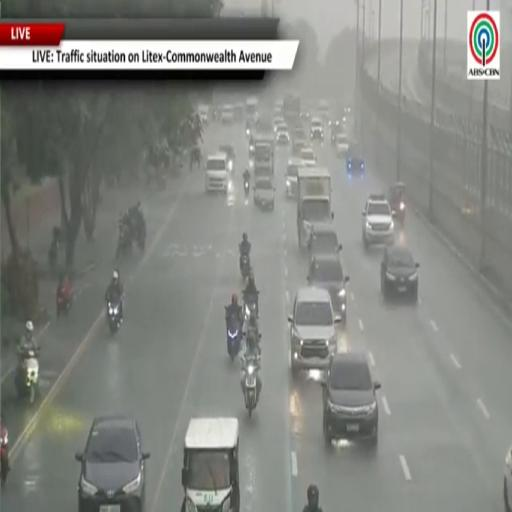car: (75, 415, 149, 511), (322, 351, 380, 445), (288, 286, 341, 374), (307, 253, 349, 325), (381, 246, 419, 302), (363, 195, 394, 249), (308, 222, 342, 261), (206, 153, 229, 193), (285, 158, 303, 198), (254, 176, 275, 210), (346, 142, 365, 174), (504, 447, 511, 511), (219, 144, 235, 171), (300, 147, 317, 166), (292, 137, 308, 157), (335, 133, 348, 157), (310, 118, 324, 140), (276, 123, 289, 146), (331, 124, 345, 144), (258, 117, 273, 134), (221, 104, 233, 125), (198, 104, 209, 125), (292, 125, 307, 140), (318, 101, 329, 121), (246, 118, 257, 136), (273, 117, 285, 133), (234, 103, 244, 122)
motorcycle: (15, 348, 39, 405), (243, 358, 259, 418), (128, 210, 146, 251), (227, 315, 242, 361), (116, 219, 132, 258), (48, 227, 61, 274), (107, 297, 122, 334), (56, 285, 73, 316), (0, 429, 8, 488), (48, 239, 58, 274), (245, 296, 258, 319), (394, 201, 405, 228), (240, 253, 250, 280), (244, 180, 250, 198)
truck: (297, 167, 333, 248), (254, 135, 273, 178), (283, 93, 300, 127)
